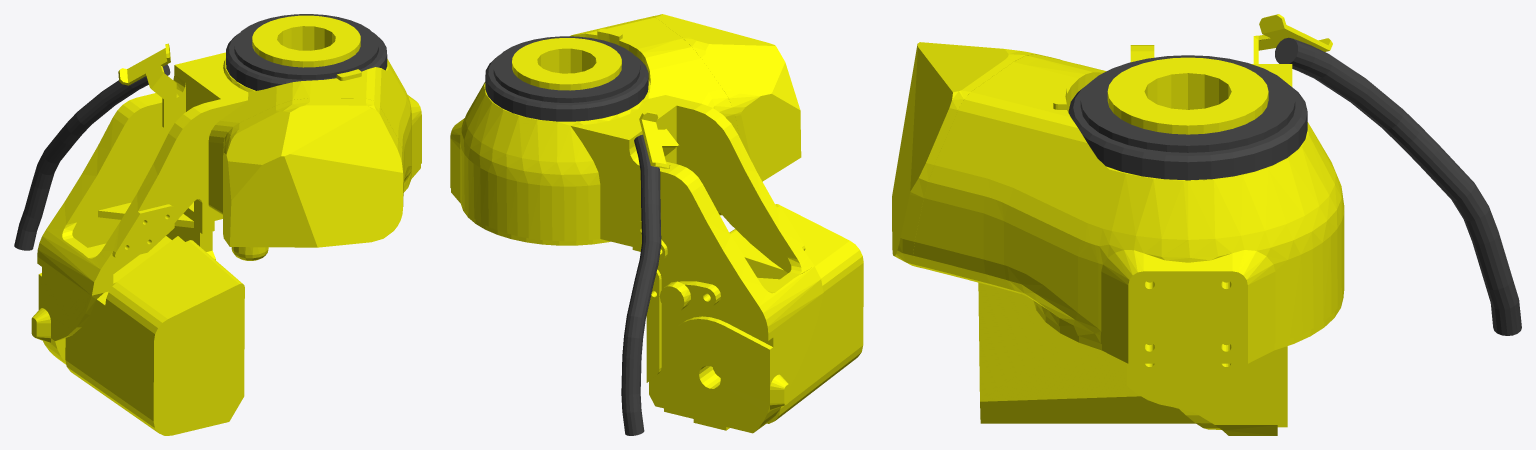
3 renders of one model, left to right at view 1: azimuth 30°, elevation 25°; view 2: azimuth 150°, elevation 25°; view 3: azimuth 270°, elevation 25°, orthographic. The views are drawn at different scales.
Visible parts, largest first — view 1: node; view 2: node; view 3: node.
Boxes of the visible parts, left/top/right/bottom form: node: left=14, top=14, right=421, bottom=435; node: left=450, top=14, right=863, bottom=435; node: left=892, top=14, right=1521, bottom=435.
Size of the model in its own units: 379 by 319 by 411.
